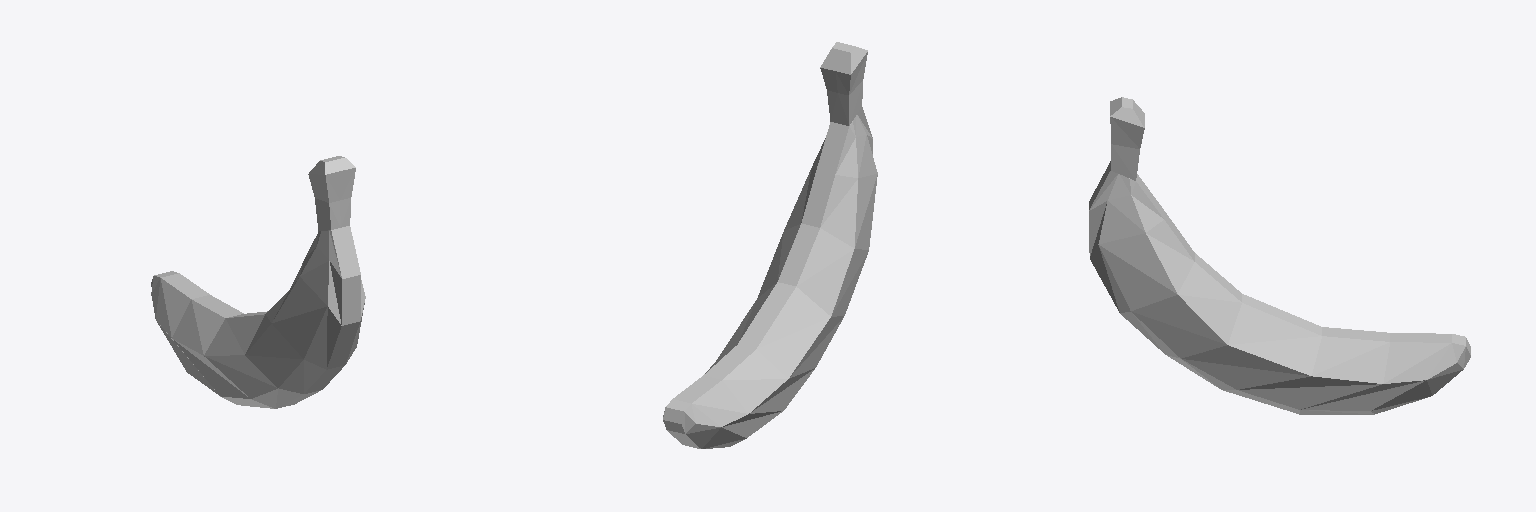
Rendered from Banana.obj.
3 views of the same model, side by side, from view 1: azimuth 30°, elevation 25°; view 2: azimuth 150°, elevation 25°; view 3: azimuth 270°, elevation 25° (orthographic).
Parts seen in each view (by area): view 1: Cube; view 2: Cube; view 3: Cube.
Boxes of the visible parts, x1,y1,x2,y2 form: Cube: [151, 156, 365, 408]; Cube: [663, 42, 877, 448]; Cube: [1089, 97, 1470, 414].
Size of the model in its own units: 0.1073 by 0.4255 by 0.4797.